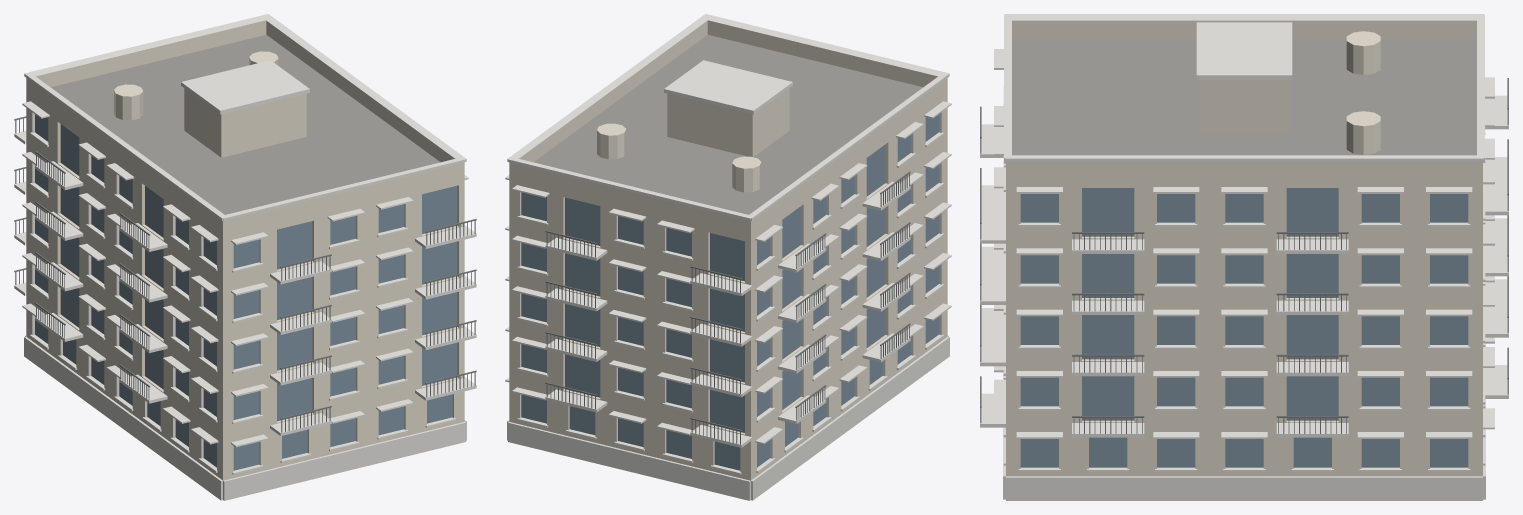
Rendered from Staff_Quarters_3.fbx.
3 renders of one model, left to right at view 1: azimuth 30°, elevation 25°; view 2: azimuth 150°, elevation 25°; view 3: azimuth 270°, elevation 25°, orthographic. The views are drawn at different scales.
Parts seen in each view (by area): view 1: Staff_Quarters_3; view 2: Staff_Quarters_3; view 3: Staff_Quarters_3.
Boxes of the visible parts, x1,y1,x2,y2 form: Staff_Quarters_3: (14, 14, 476, 500); Staff_Quarters_3: (505, 14, 951, 500); Staff_Quarters_3: (980, 14, 1508, 500).
Size of the model in its own units: 19.6 by 21.05 by 26.6.
